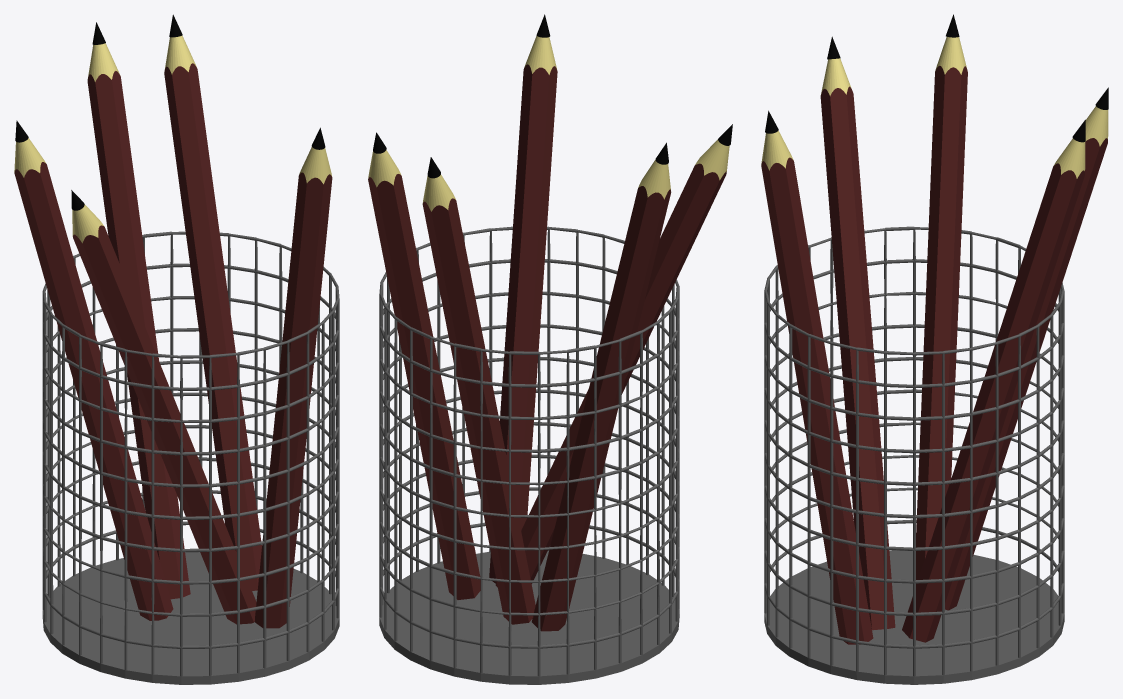
File: cup_pencil.glb
3 renders of one model, left to right at view 1: azimuth 30°, elevation 25°; view 2: azimuth 150°, elevation 25°; view 3: azimuth 270°, elevation 25°, orthographic.
Parts seen in each view (by area): view 1: Cylinder, Cylinder.001, Cylinder.003, Cylinder.006, Cylinder.005, Cylinder.004, Cylinder.002; view 2: Cylinder, Cylinder.001, Cylinder.005, Cylinder.006, Cylinder.002, Cylinder.003, Cylinder.004; view 3: Cylinder, Cylinder.001, Cylinder.004, Cylinder.006, Cylinder.003, Cylinder.005, Cylinder.002.
Boxes of the visible parts, x1=… form: Cylinder: x1=42, y1=231, x2=339, y2=676; Cylinder.001: x1=42, y1=552, x2=339, y2=684; Cylinder.003: x1=164, y1=35, x2=261, y2=590; Cylinder.006: x1=14, y1=138, x2=173, y2=620; Cylinder.005: x1=254, y1=147, x2=332, y2=628; Cylinder.004: x1=72, y1=204, x2=256, y2=624; Cylinder.002: x1=87, y1=43, x2=190, y2=599; Cylinder: x1=379, y1=226, x2=679, y2=676; Cylinder.001: x1=379, y1=551, x2=679, y2=684; Cylinder.005: x1=489, y1=36, x2=557, y2=583; Cylinder.006: x1=531, y1=160, x2=671, y2=631; Cylinder.002: x1=422, y1=175, x2=535, y2=624; Cylinder.003: x1=368, y1=150, x2=480, y2=599; Cylinder.004: x1=495, y1=139, x2=729, y2=587; Cylinder: x1=764, y1=226, x2=1064, y2=676; Cylinder.001: x1=764, y1=550, x2=1064, y2=684; Cylinder.004: x1=820, y1=58, x2=895, y2=630; Cylinder.006: x1=916, y1=37, x2=967, y2=585; Cylinder.003: x1=902, y1=138, x2=1085, y2=642; Cylinder.005: x1=761, y1=130, x2=873, y2=644; Cylinder.002: x1=945, y1=106, x2=1108, y2=610.
Size of the model in its own units: 0.402 by 0.7093 by 0.4144.
